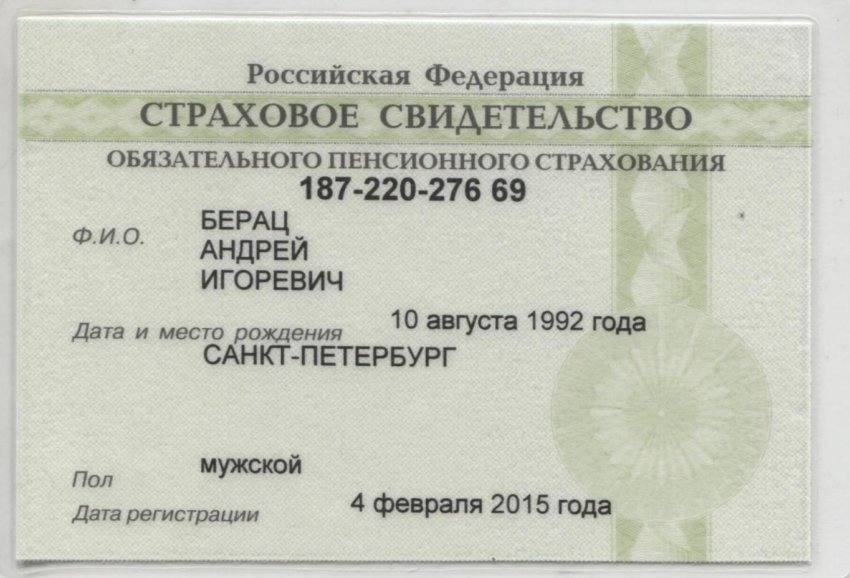text: (385, 301, 649, 338), (333, 487, 625, 519), (298, 172, 539, 206), (201, 340, 461, 367), (196, 263, 346, 297), (192, 238, 323, 265), (193, 205, 299, 234), (196, 450, 313, 476)
